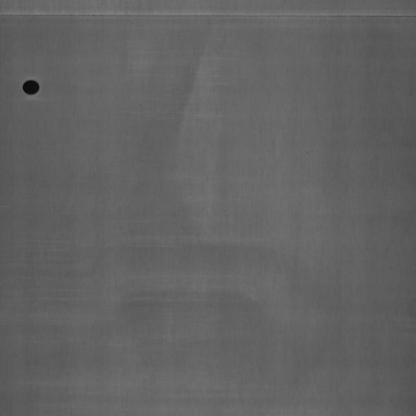punching_hole: (20, 74, 42, 102)
welding_line: (0, 2, 416, 26)
